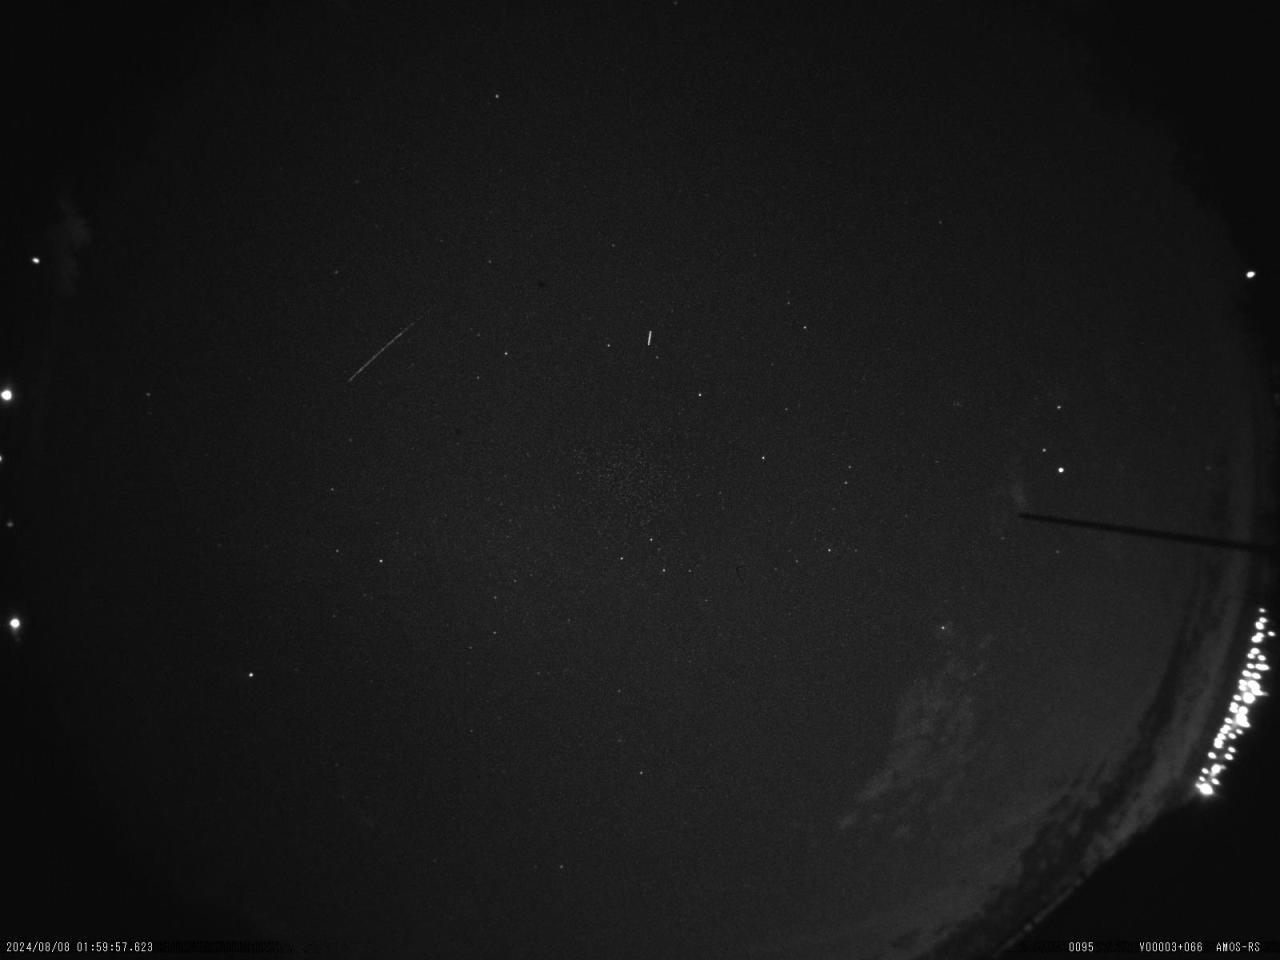Meteor: (346, 311, 424, 385), (643, 326, 654, 347)
